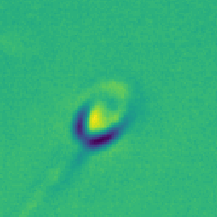normal: (1, 139, 83, 217)
